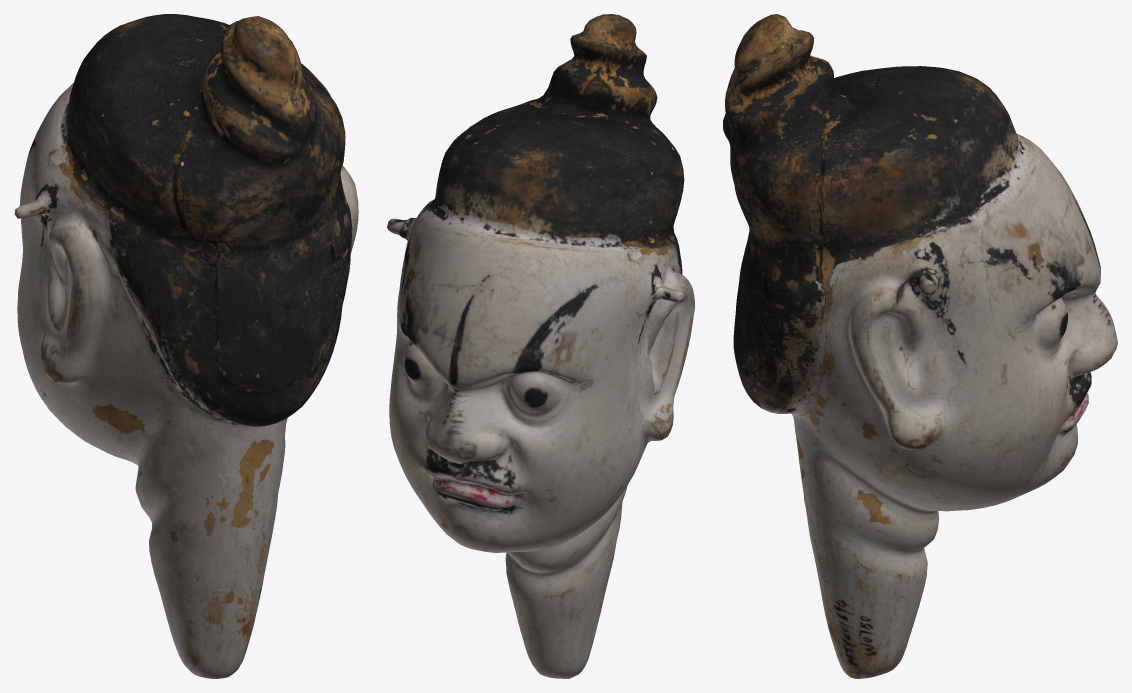
The model's file is MTY001694.glb.
The picture shows the model from 3 angles, left to right: view 1: azimuth 30°, elevation 25°; view 2: azimuth 150°, elevation 25°; view 3: azimuth 270°, elevation 25°; orthographic projection. The views are drawn at different scales.
Parts seen in each view (by area): view 1: MTY001694; view 2: MTY001694; view 3: MTY001694.
Part boxes in pixels (box(x1,y1,x2,y2)): MTY001694: box(14, 14, 358, 678); MTY001694: box(387, 14, 694, 678); MTY001694: box(723, 14, 1117, 678).
Bounding box in the file's own units: 28.23 × 57.92 × 31.79.
1 material, 1 textured.
